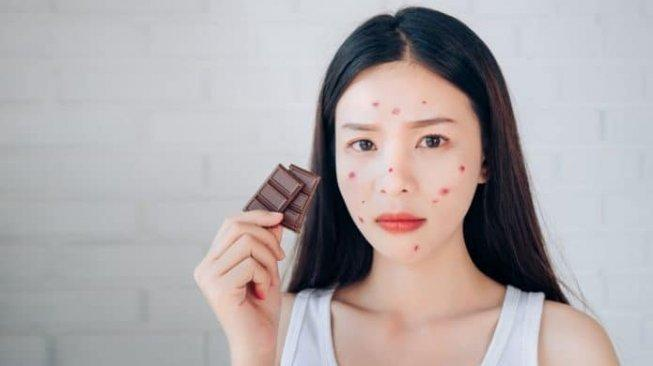Acne: (425, 161, 467, 206), (363, 94, 432, 116), (343, 170, 371, 224), (409, 243, 422, 254), (386, 166, 396, 174)
